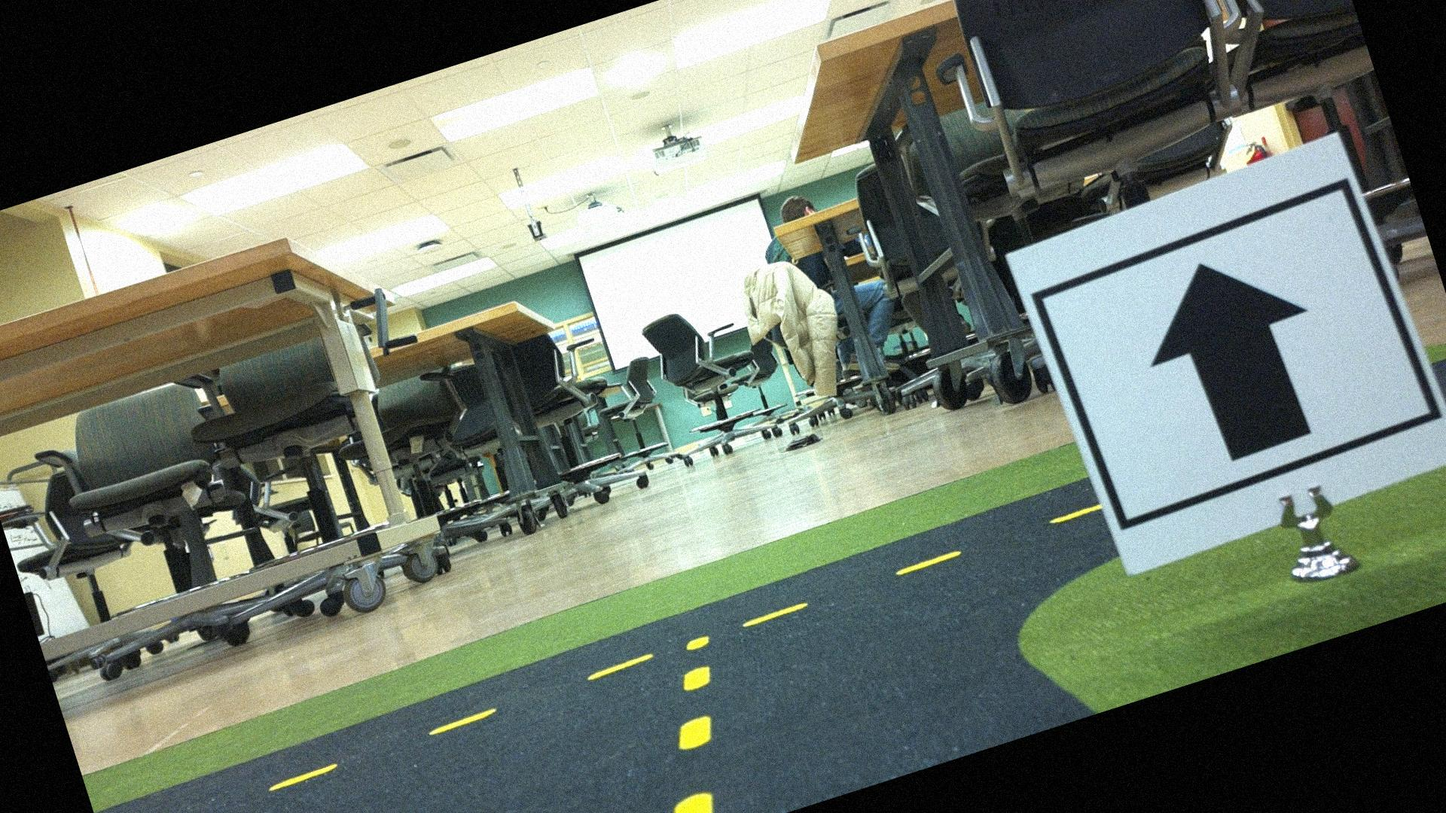gostraight: (1027, 166, 1435, 556)
yellowline: (96, 501, 1106, 812), (617, 634, 763, 812)
